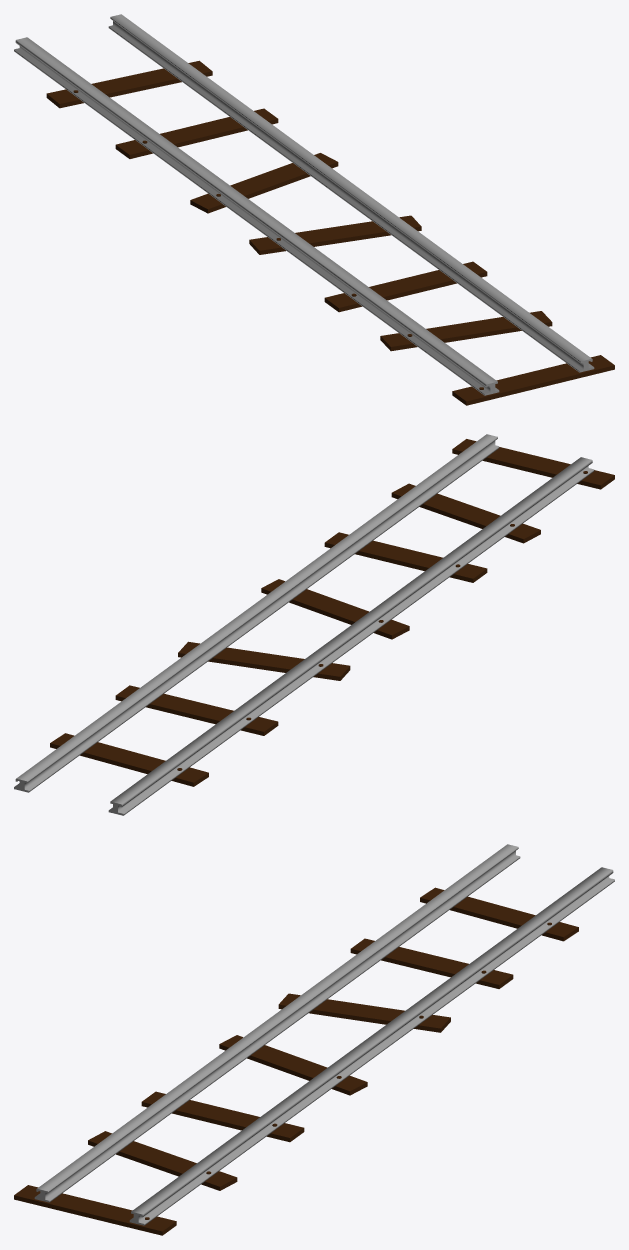
File: rails_segment.dae
3 views of the same model, one above another, from view 1: azimuth 30°, elevation 25°; view 2: azimuth 150°, elevation 25°; view 3: azimuth 330°, elevation 25° (orthographic).
Visible parts, largest first — view 1: Rails, WoodenCrossbars; view 2: Rails, WoodenCrossbars; view 3: Rails, WoodenCrossbars.
Part boxes in pixels (x1,y1,x2,y2): Rails: (14,14,594,395); WoodenCrossbars: (46,60,614,405); Rails: (14,434,594,815); WoodenCrossbars: (50,439,614,786); Rails: (34,844,614,1225); WoodenCrossbars: (14,887,578,1235).
Bounding box in the file's own units: 3.68 × 20.05 × 0.3552.
